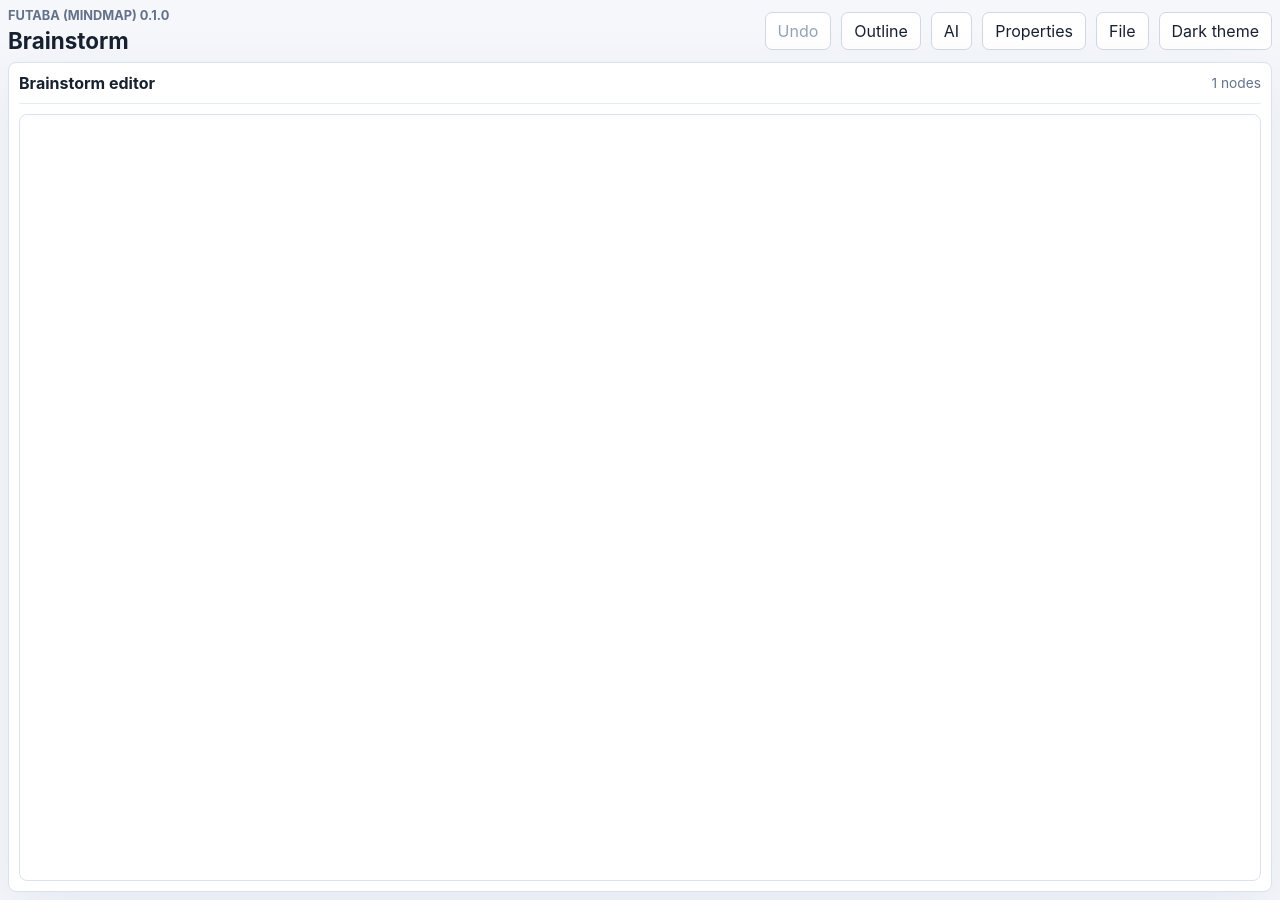
Test: App › edits map file name separately from selected node title
Click the button "Properties" at (1034, 31), box [982, 12, 1086, 50]
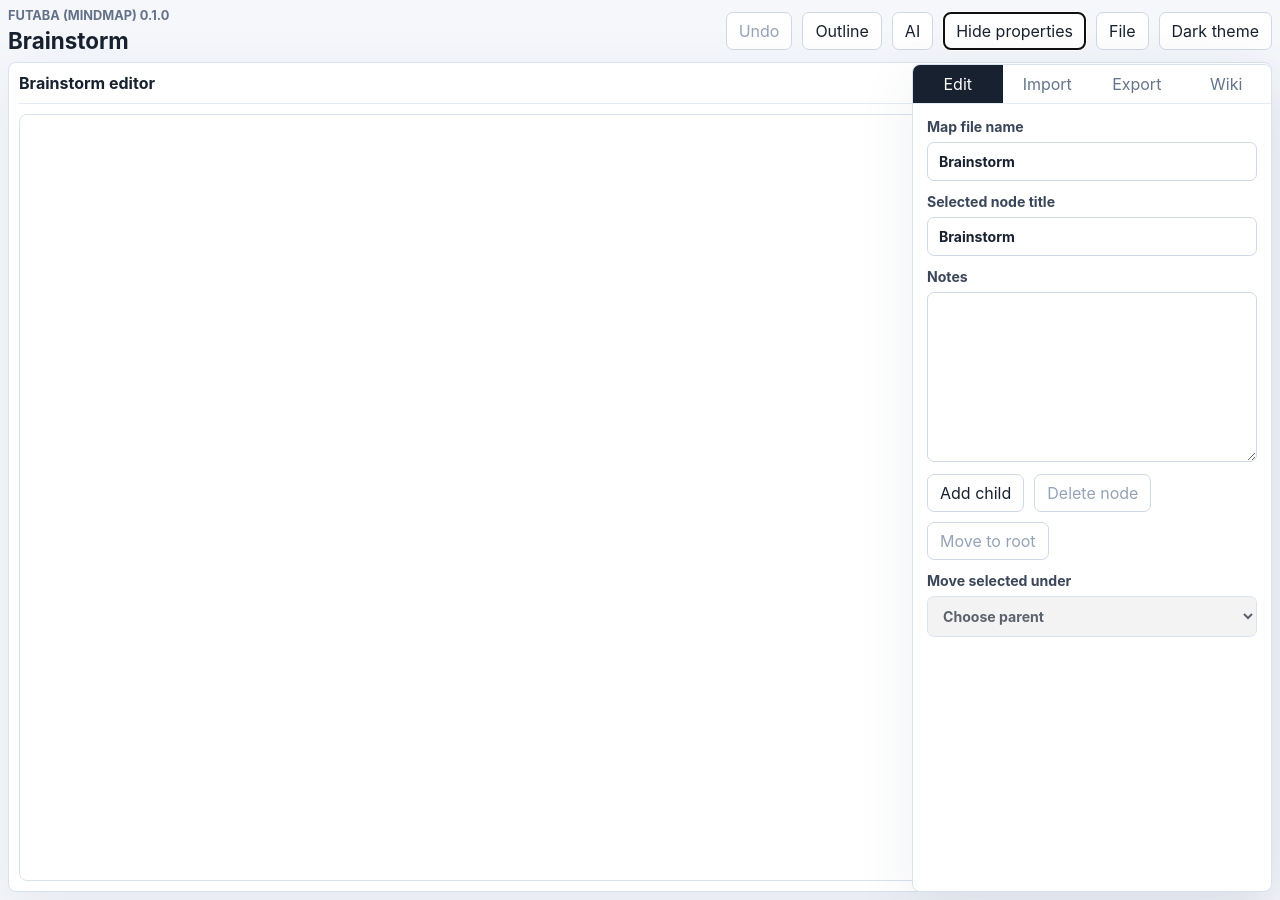
Replace the text in the field labelled "Map file name" with "Customer Discovery File" at (1092, 162), box [927, 142, 1257, 181]
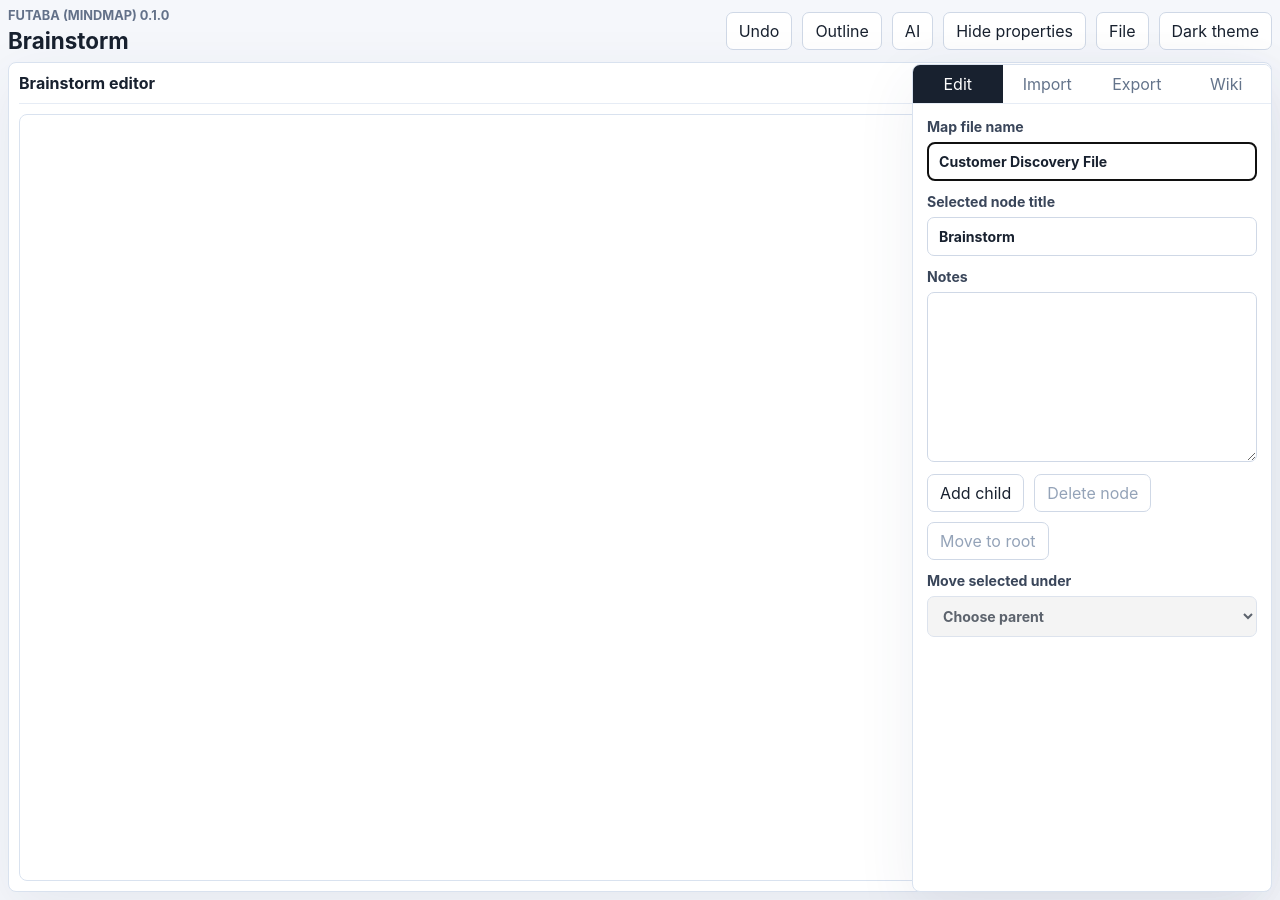
Replace the text in the field labelled "Selected node title" with "Research Questions" at (1092, 236), box [927, 217, 1257, 256]
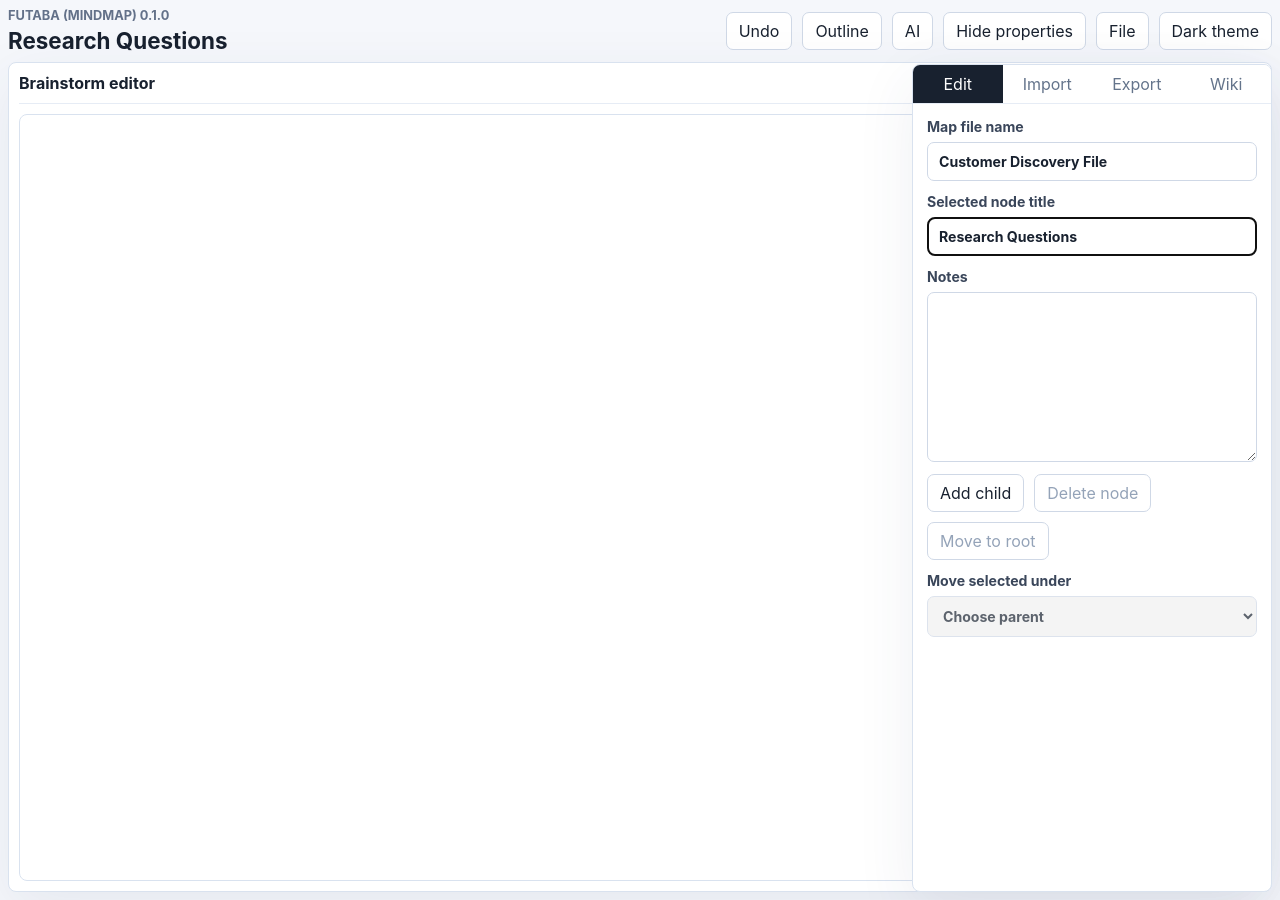
Check: the heading "Research Questions" is shown, box [8, 29, 228, 54]
